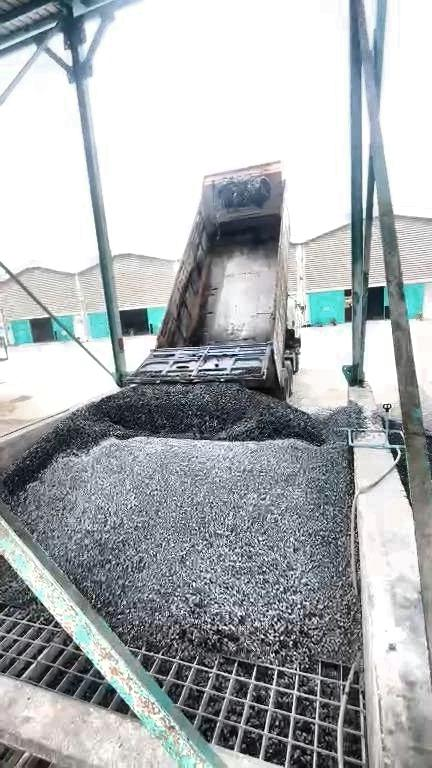gravel: (2, 376, 364, 665), (1, 555, 50, 620)
sand: (1, 396, 30, 433)
